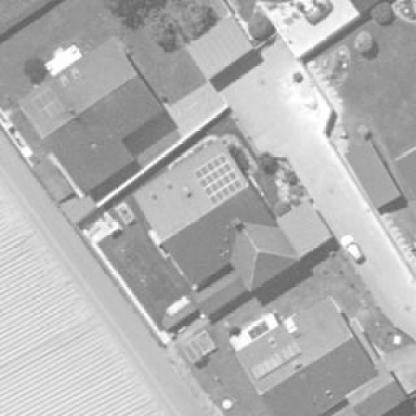solar-pv-panel: (193, 154, 241, 205), (251, 343, 301, 380), (31, 87, 65, 122), (247, 320, 269, 340)
